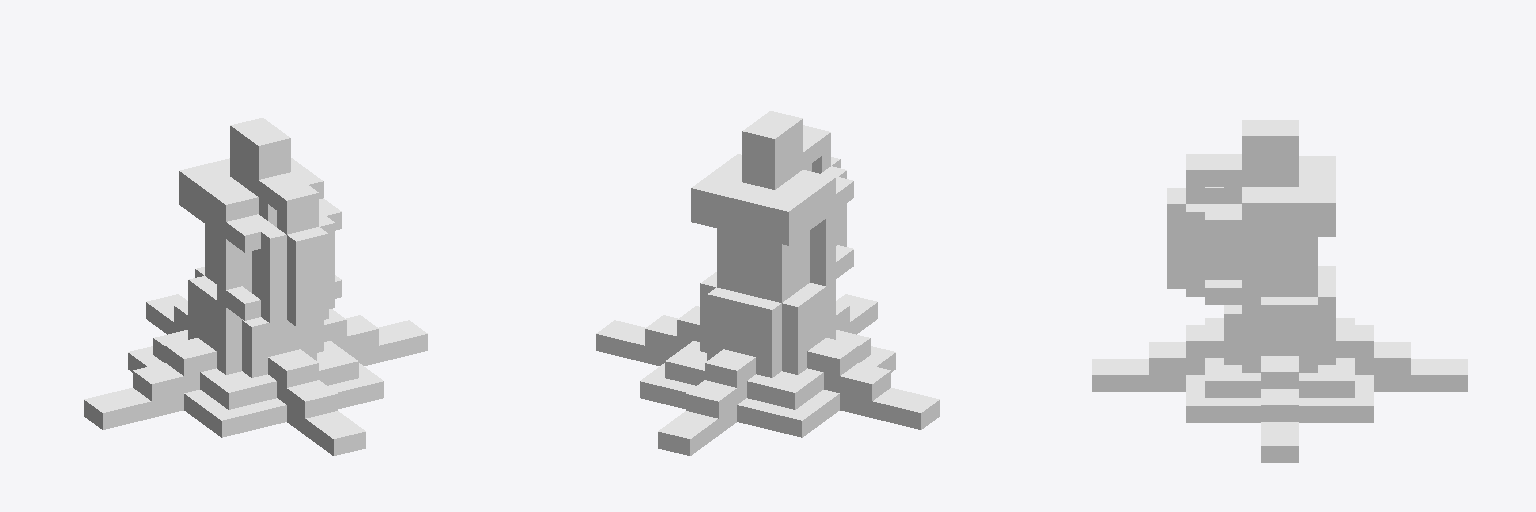
The model's file is Fire_Light_Base.obj.
3 views of the same model, side by side, from view 1: azimuth 30°, elevation 25°; view 2: azimuth 150°, elevation 25°; view 3: azimuth 270°, elevation 25° (orthographic).
Visible parts, largest first — view 1: Fire_Light_Base; view 2: Fire_Light_Base; view 3: Fire_Light_Base.
Part boxes in pixels (left/top/right/bottom): Fire_Light_Base: left=84, top=118, right=427, bottom=455; Fire_Light_Base: left=596, top=111, right=939, bottom=455; Fire_Light_Base: left=1092, top=120, right=1467, bottom=462.
Size of the model in its own units: 20 by 15 by 20.